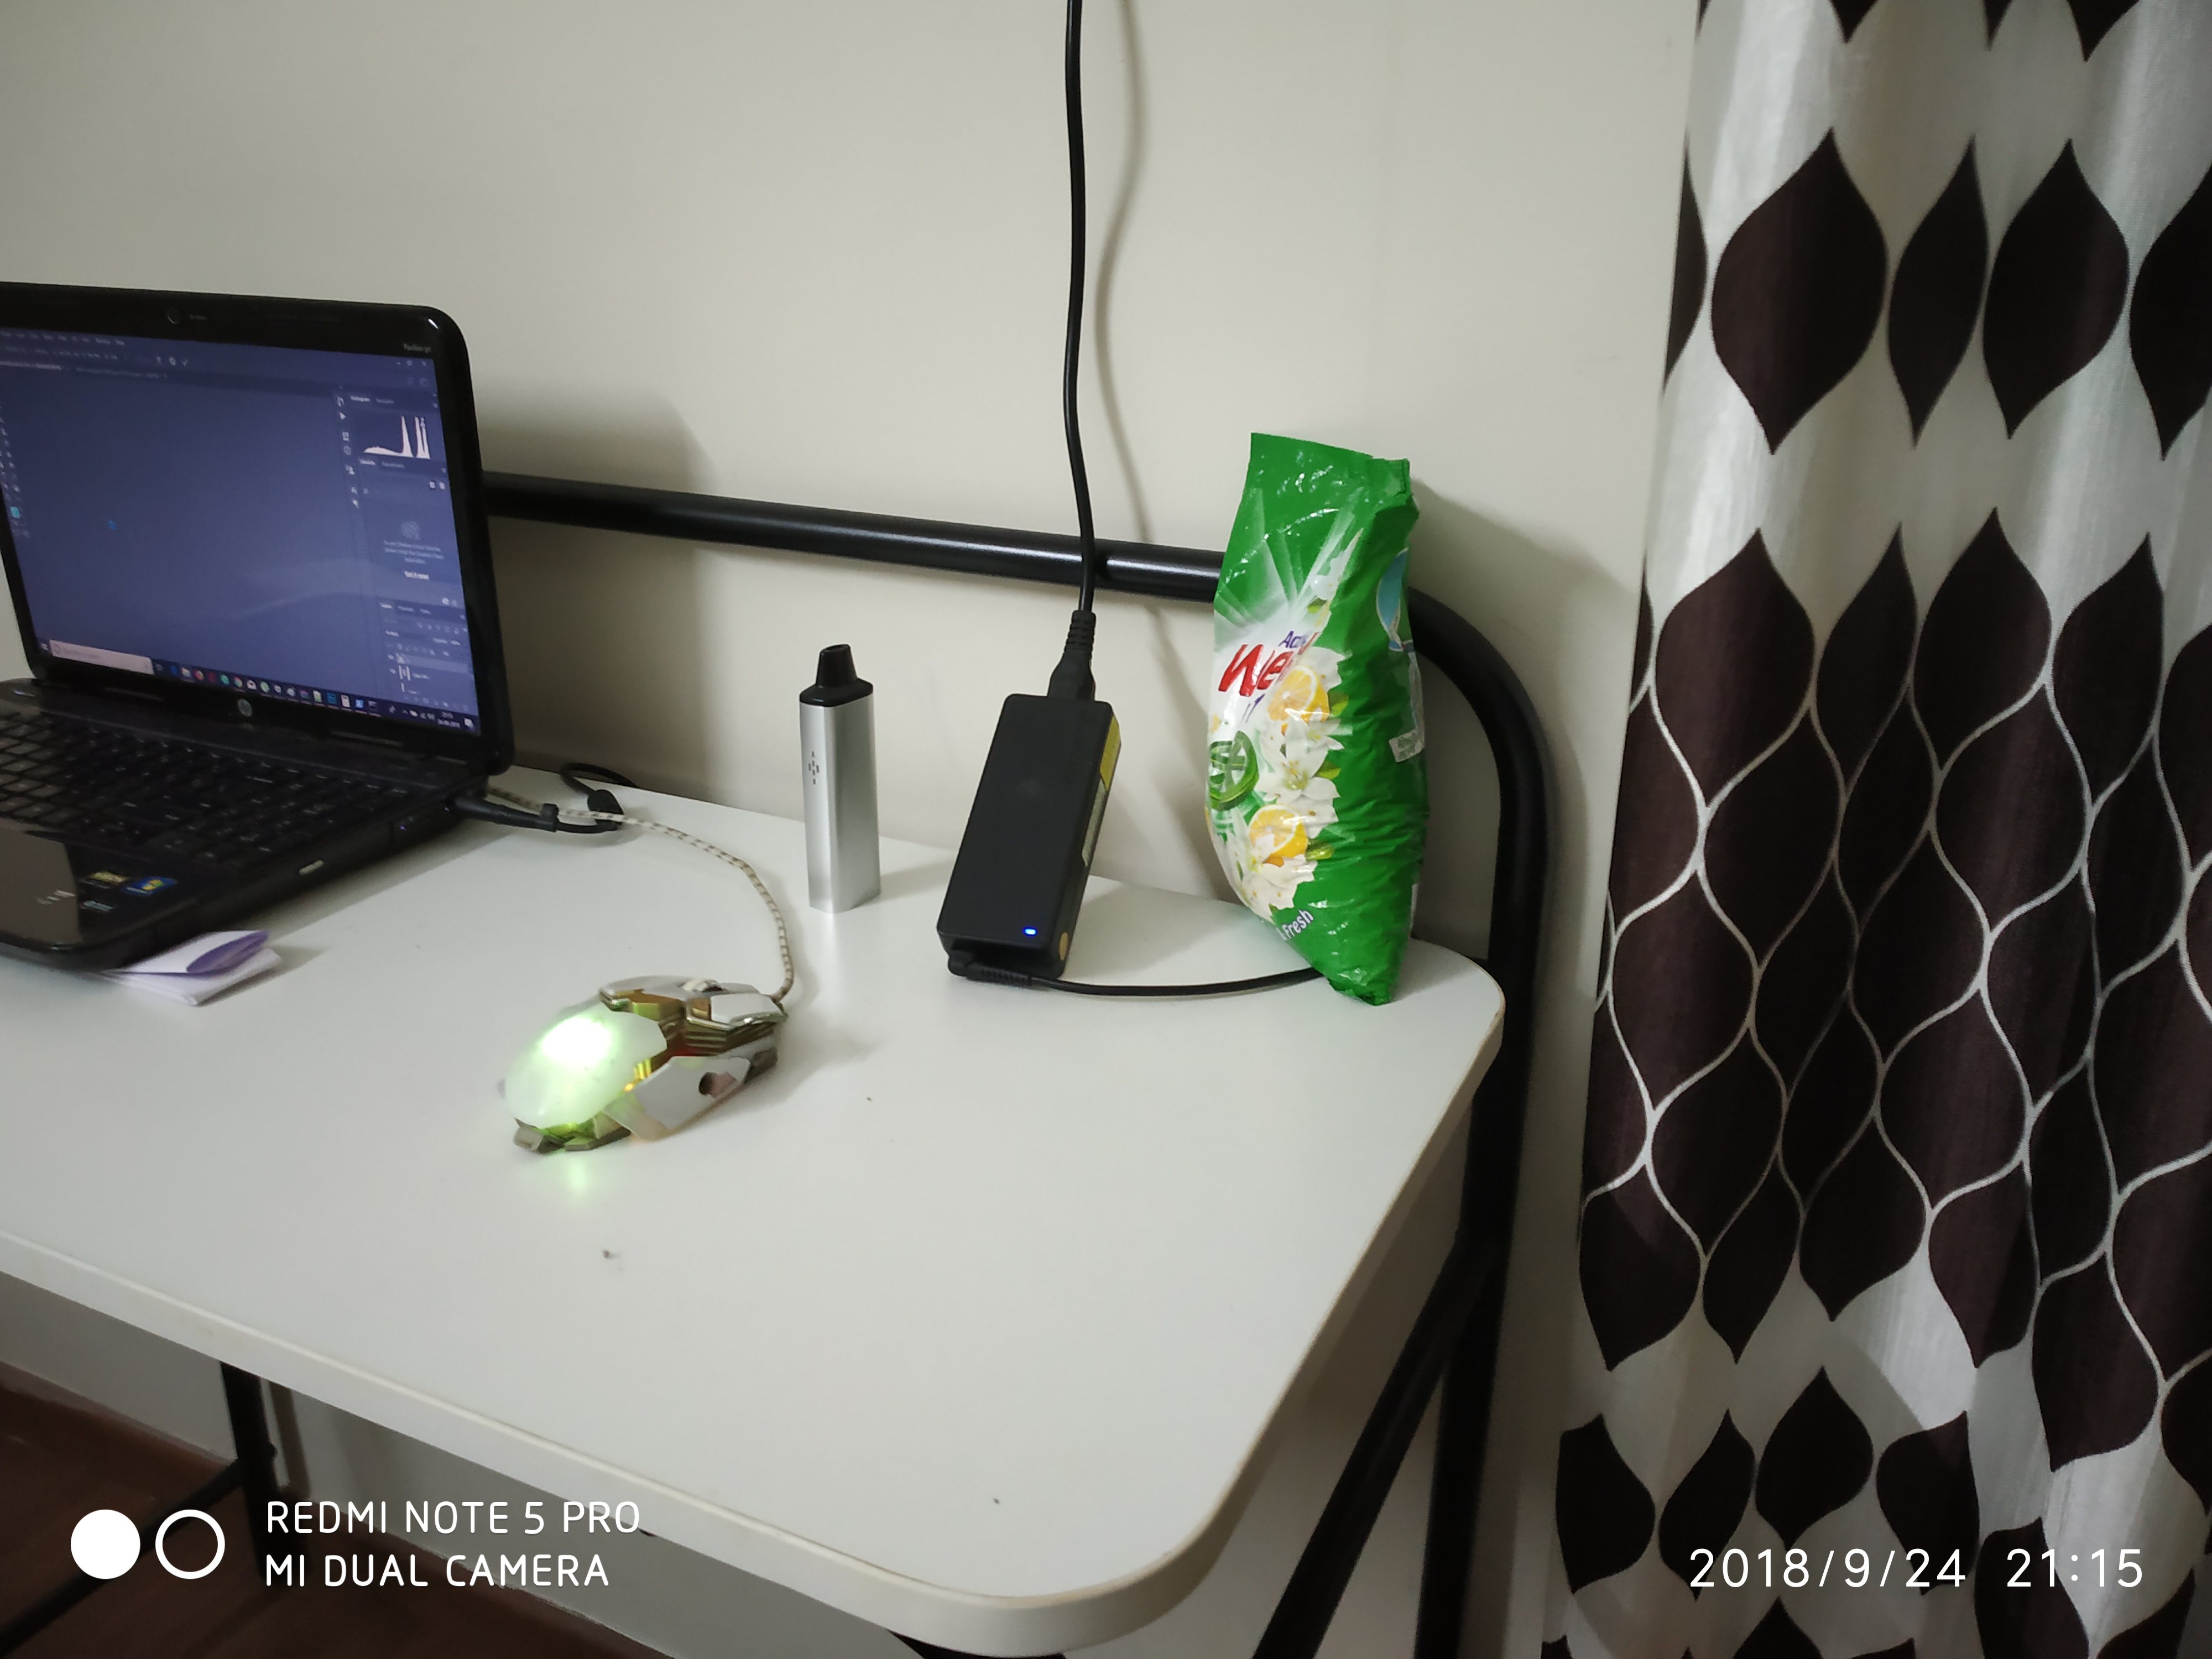detergent: (1192, 404, 1429, 1010)
